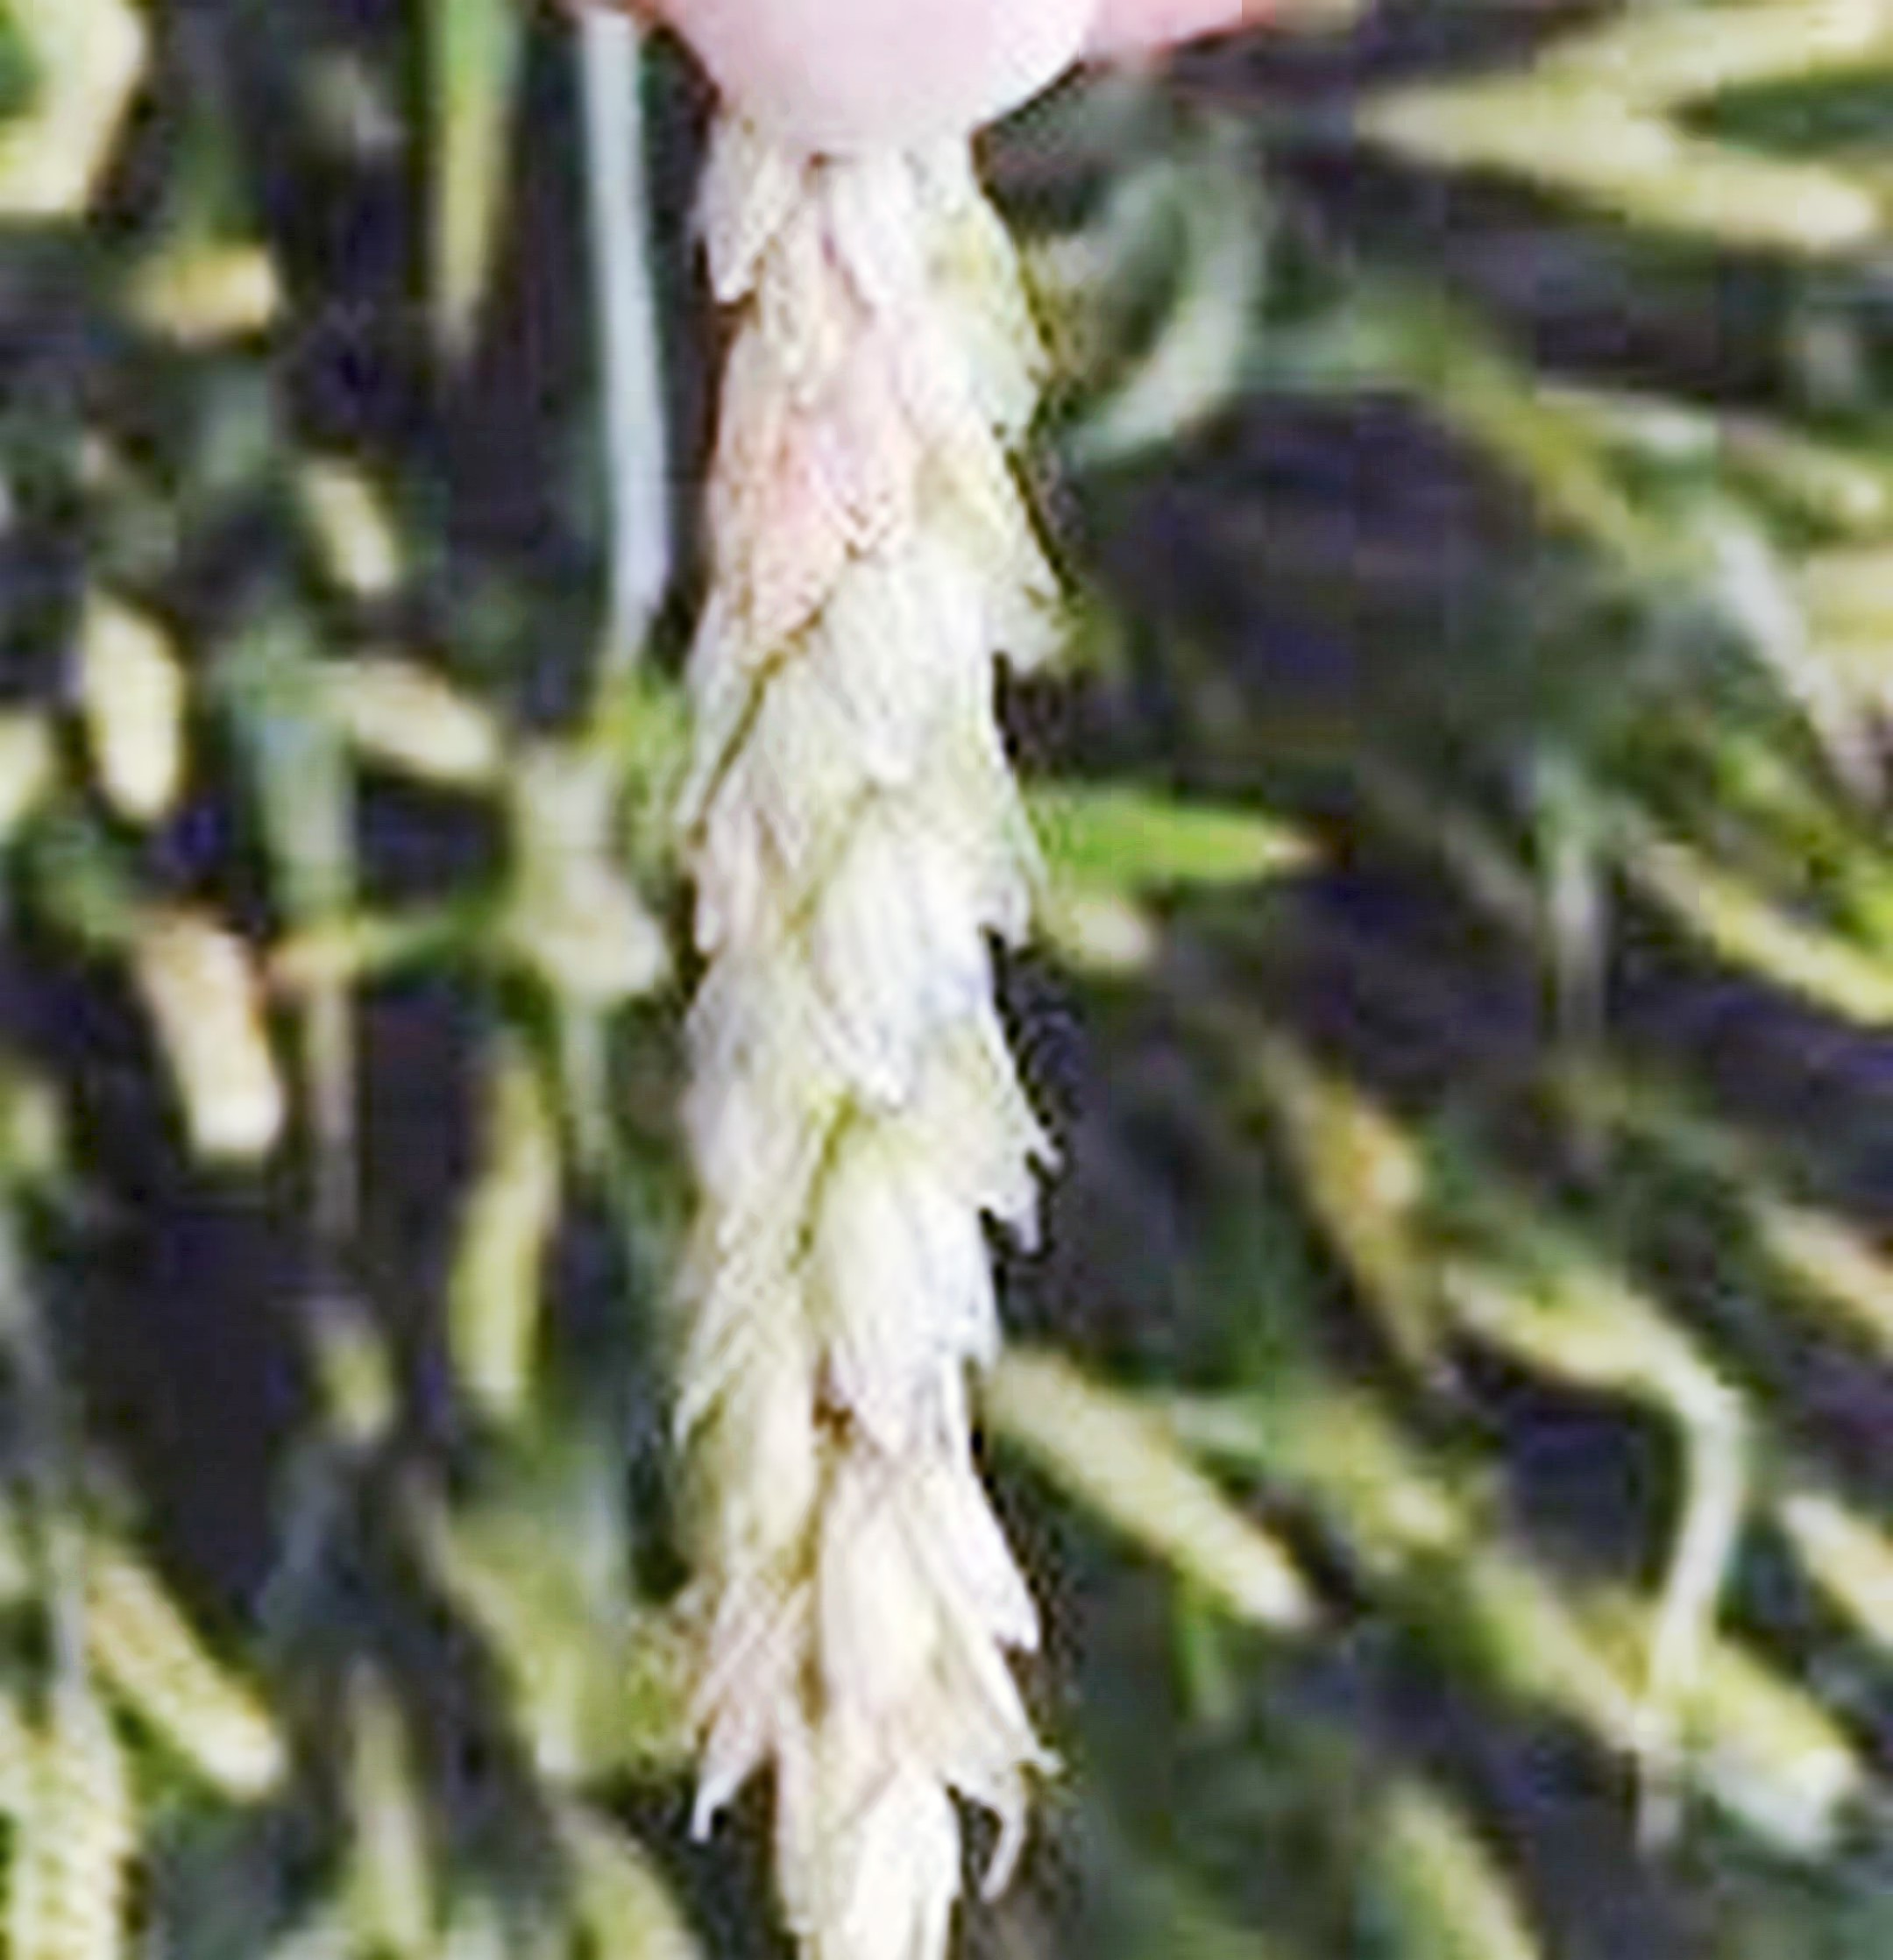Wheat scab: (627, 154, 1177, 1871)
